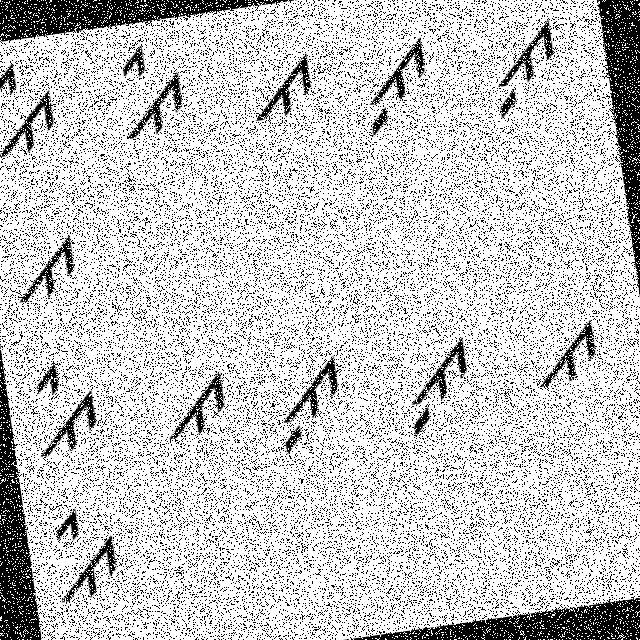ka: (1, 215, 88, 318), (243, 34, 322, 140), (530, 312, 616, 407), (156, 364, 238, 448)
ki: (101, 40, 196, 150), (46, 496, 134, 614), (20, 352, 107, 463), (0, 50, 74, 170)
ku: (473, 8, 572, 128), (349, 18, 441, 145), (262, 348, 357, 464), (390, 334, 486, 442)
